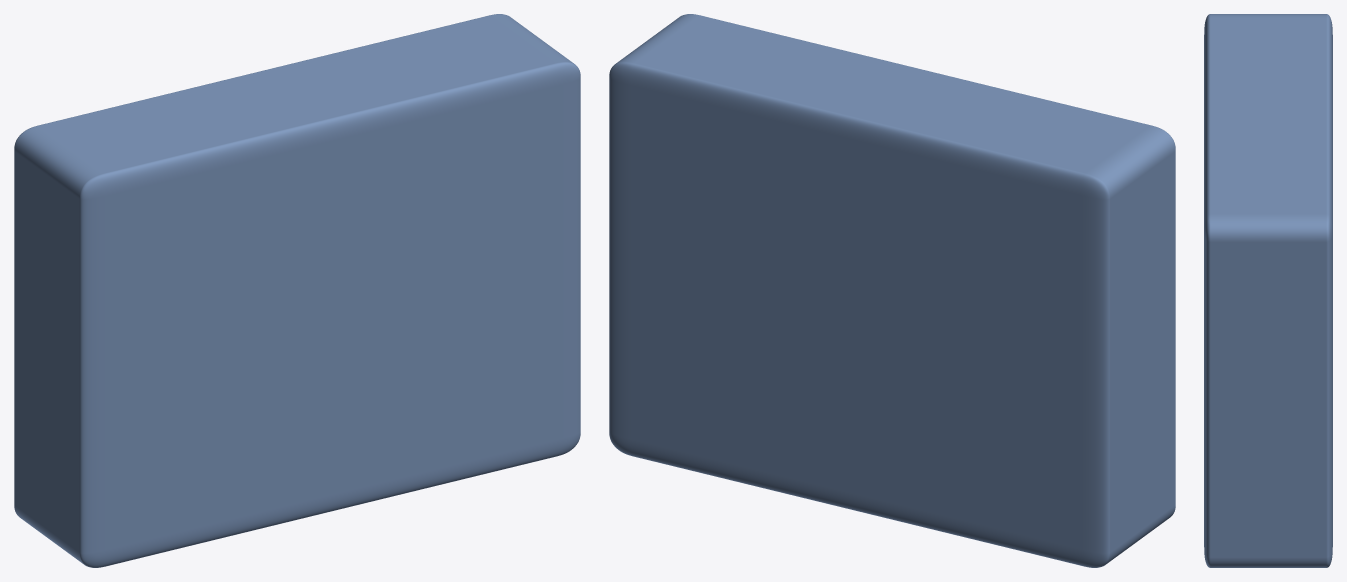
The picture shows the model from 3 angles, left to right: view 1: azimuth 30°, elevation 25°; view 2: azimuth 150°, elevation 25°; view 3: azimuth 270°, elevation 25°; orthographic projection. The views are drawn at different scales.
Visible parts, largest first — view 1: Rounded Cube; view 2: Rounded Cube; view 3: Rounded Cube.
Part boxes in pixels (bbox=[...]): Rounded Cube: bbox=[14, 14, 580, 567]; Rounded Cube: bbox=[609, 14, 1175, 567]; Rounded Cube: bbox=[1204, 14, 1332, 567].
Bounding box in the file's own units: 4 × 3 × 1.
